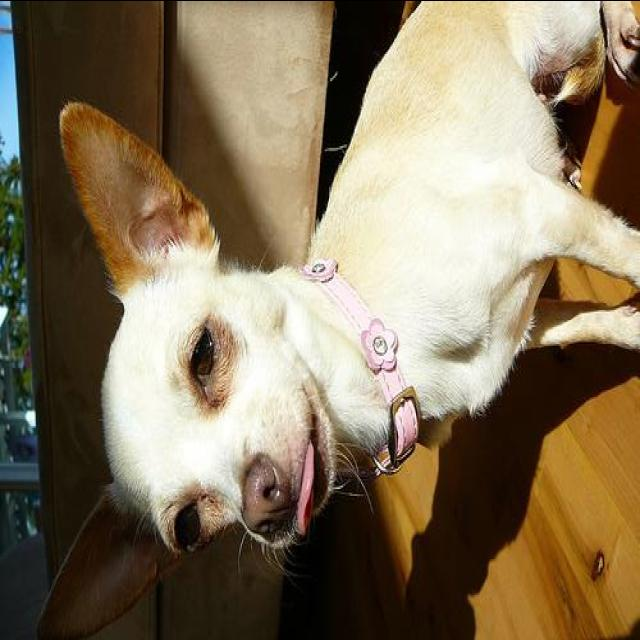chihuahua: (32, 3, 638, 640)
